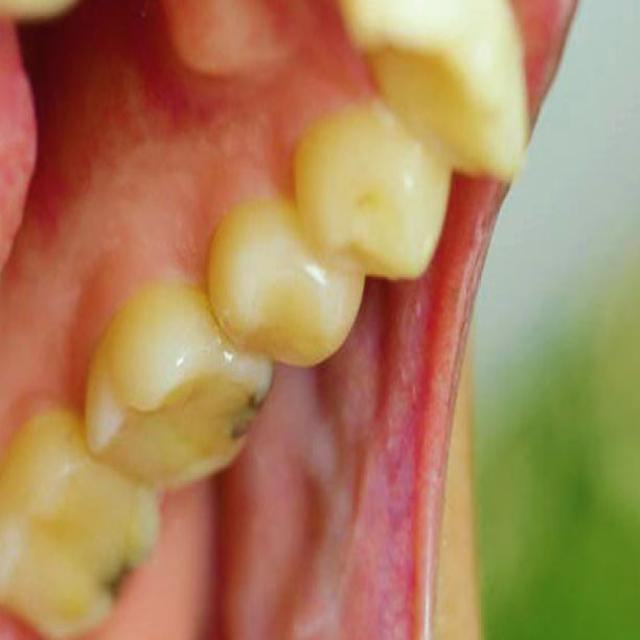caries: (103, 526, 151, 623), (226, 380, 274, 460)
